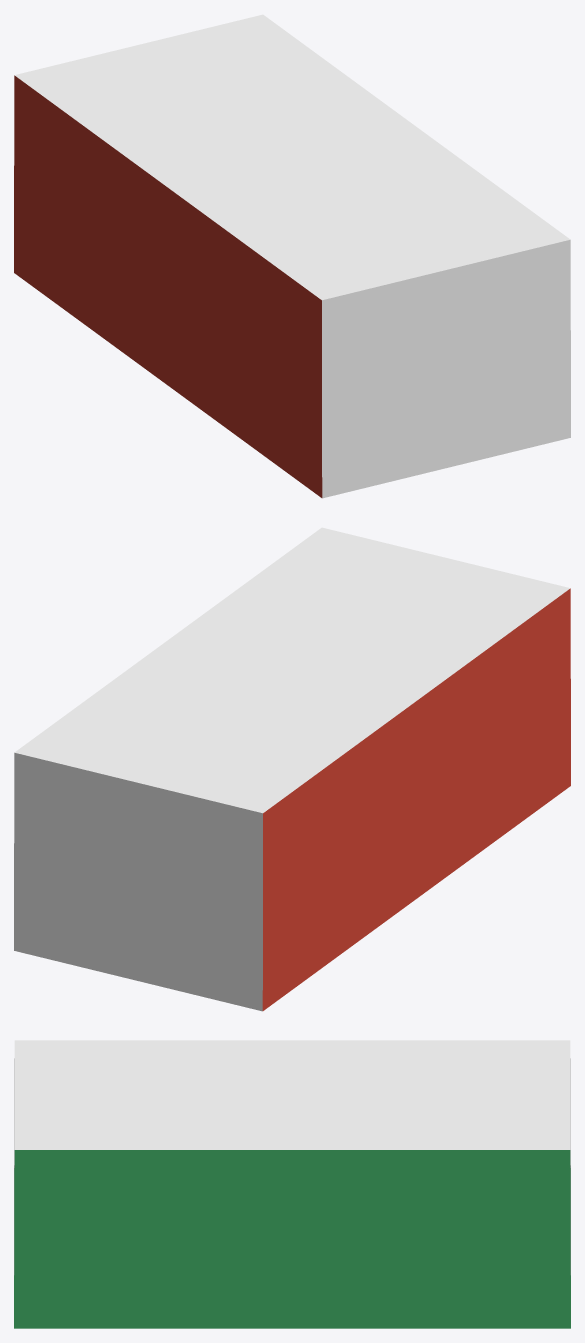
3 views of the same model, one above another, from view 1: azimuth 30°, elevation 25°; view 2: azimuth 150°, elevation 25°; view 3: azimuth 270°, elevation 25° (orthographic). The views are drawn at different scales.
Visible parts, largest first — view 1: Room; view 2: Room; view 3: Room.
Boxes of the visible parts, x1=… form: Room: x1=14, y1=14, x2=570, y2=498; Room: x1=14, y1=527, x2=570, y2=1011; Room: x1=14, y1=1040, x2=570, y2=1328.
Size of the model in its own units: 3.97 by 3.02 by 8.52.
